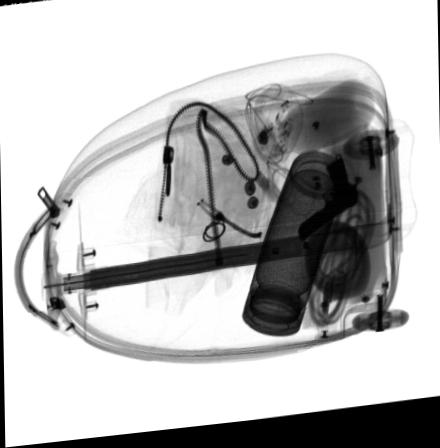Gun: (296, 164, 357, 248)
